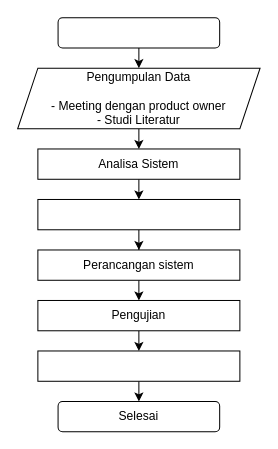
This 278x449 diagram has some shape labels left out. The centre of each missing label's shape, as x and y in pixels:
"Analisa kebutuhan" goes at (x=138, y=214).
"Mulai" goes at (x=138, y=32).
"Penarikan kesimpulan" goes at (x=138, y=365).
